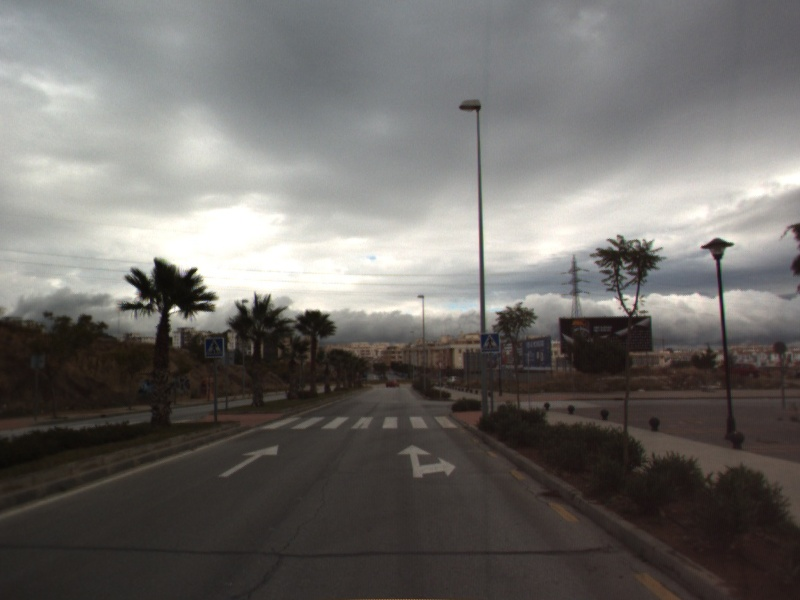STRAIGHT: (217, 443, 280, 479)
STRAIGHT_RIGHT: (395, 442, 458, 480)
